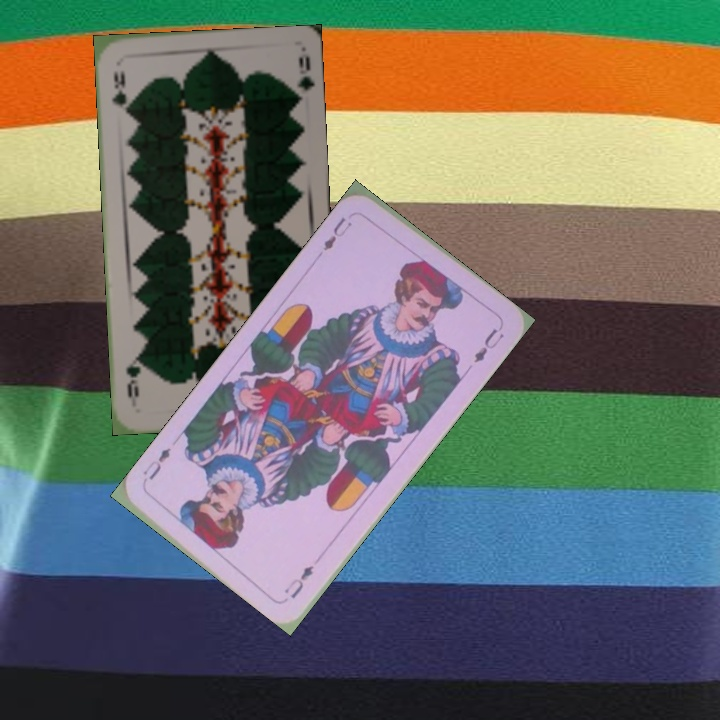EU: (280, 561, 317, 602), (319, 213, 355, 254)
G9: (108, 67, 131, 117)
